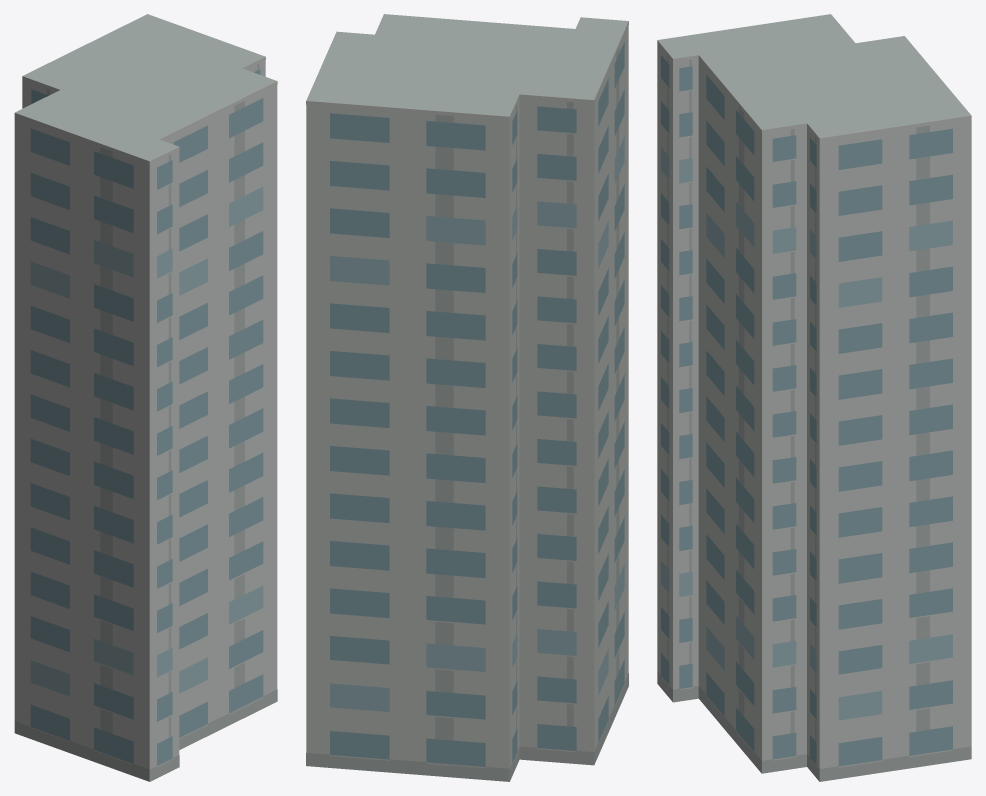
The model's file is residential-c7dd5699-9be7-4090-b680-4f0af7f7c401.glb.
The picture shows the model from 3 angles, left to right: view 1: azimuth 30°, elevation 25°; view 2: azimuth 150°, elevation 25°; view 3: azimuth 270°, elevation 25°; orthographic projection. The views are drawn at different scales.
Visible parts, largest first — view 1: residential-c7dd5699-9be7-4090-b680-4f0af7f7c401.tmp; view 2: residential-c7dd5699-9be7-4090-b680-4f0af7f7c401.tmp; view 3: residential-c7dd5699-9be7-4090-b680-4f0af7f7c401.tmp.
Part boxes in pixels (x1,y1,x2,y2): residential-c7dd5699-9be7-4090-b680-4f0af7f7c401.tmp: (14, 14, 277, 781); residential-c7dd5699-9be7-4090-b680-4f0af7f7c401.tmp: (306, 14, 628, 781); residential-c7dd5699-9be7-4090-b680-4f0af7f7c401.tmp: (657, 14, 971, 781).
Bounding box in the file's own units: 18.25 × 44 × 19.49.
